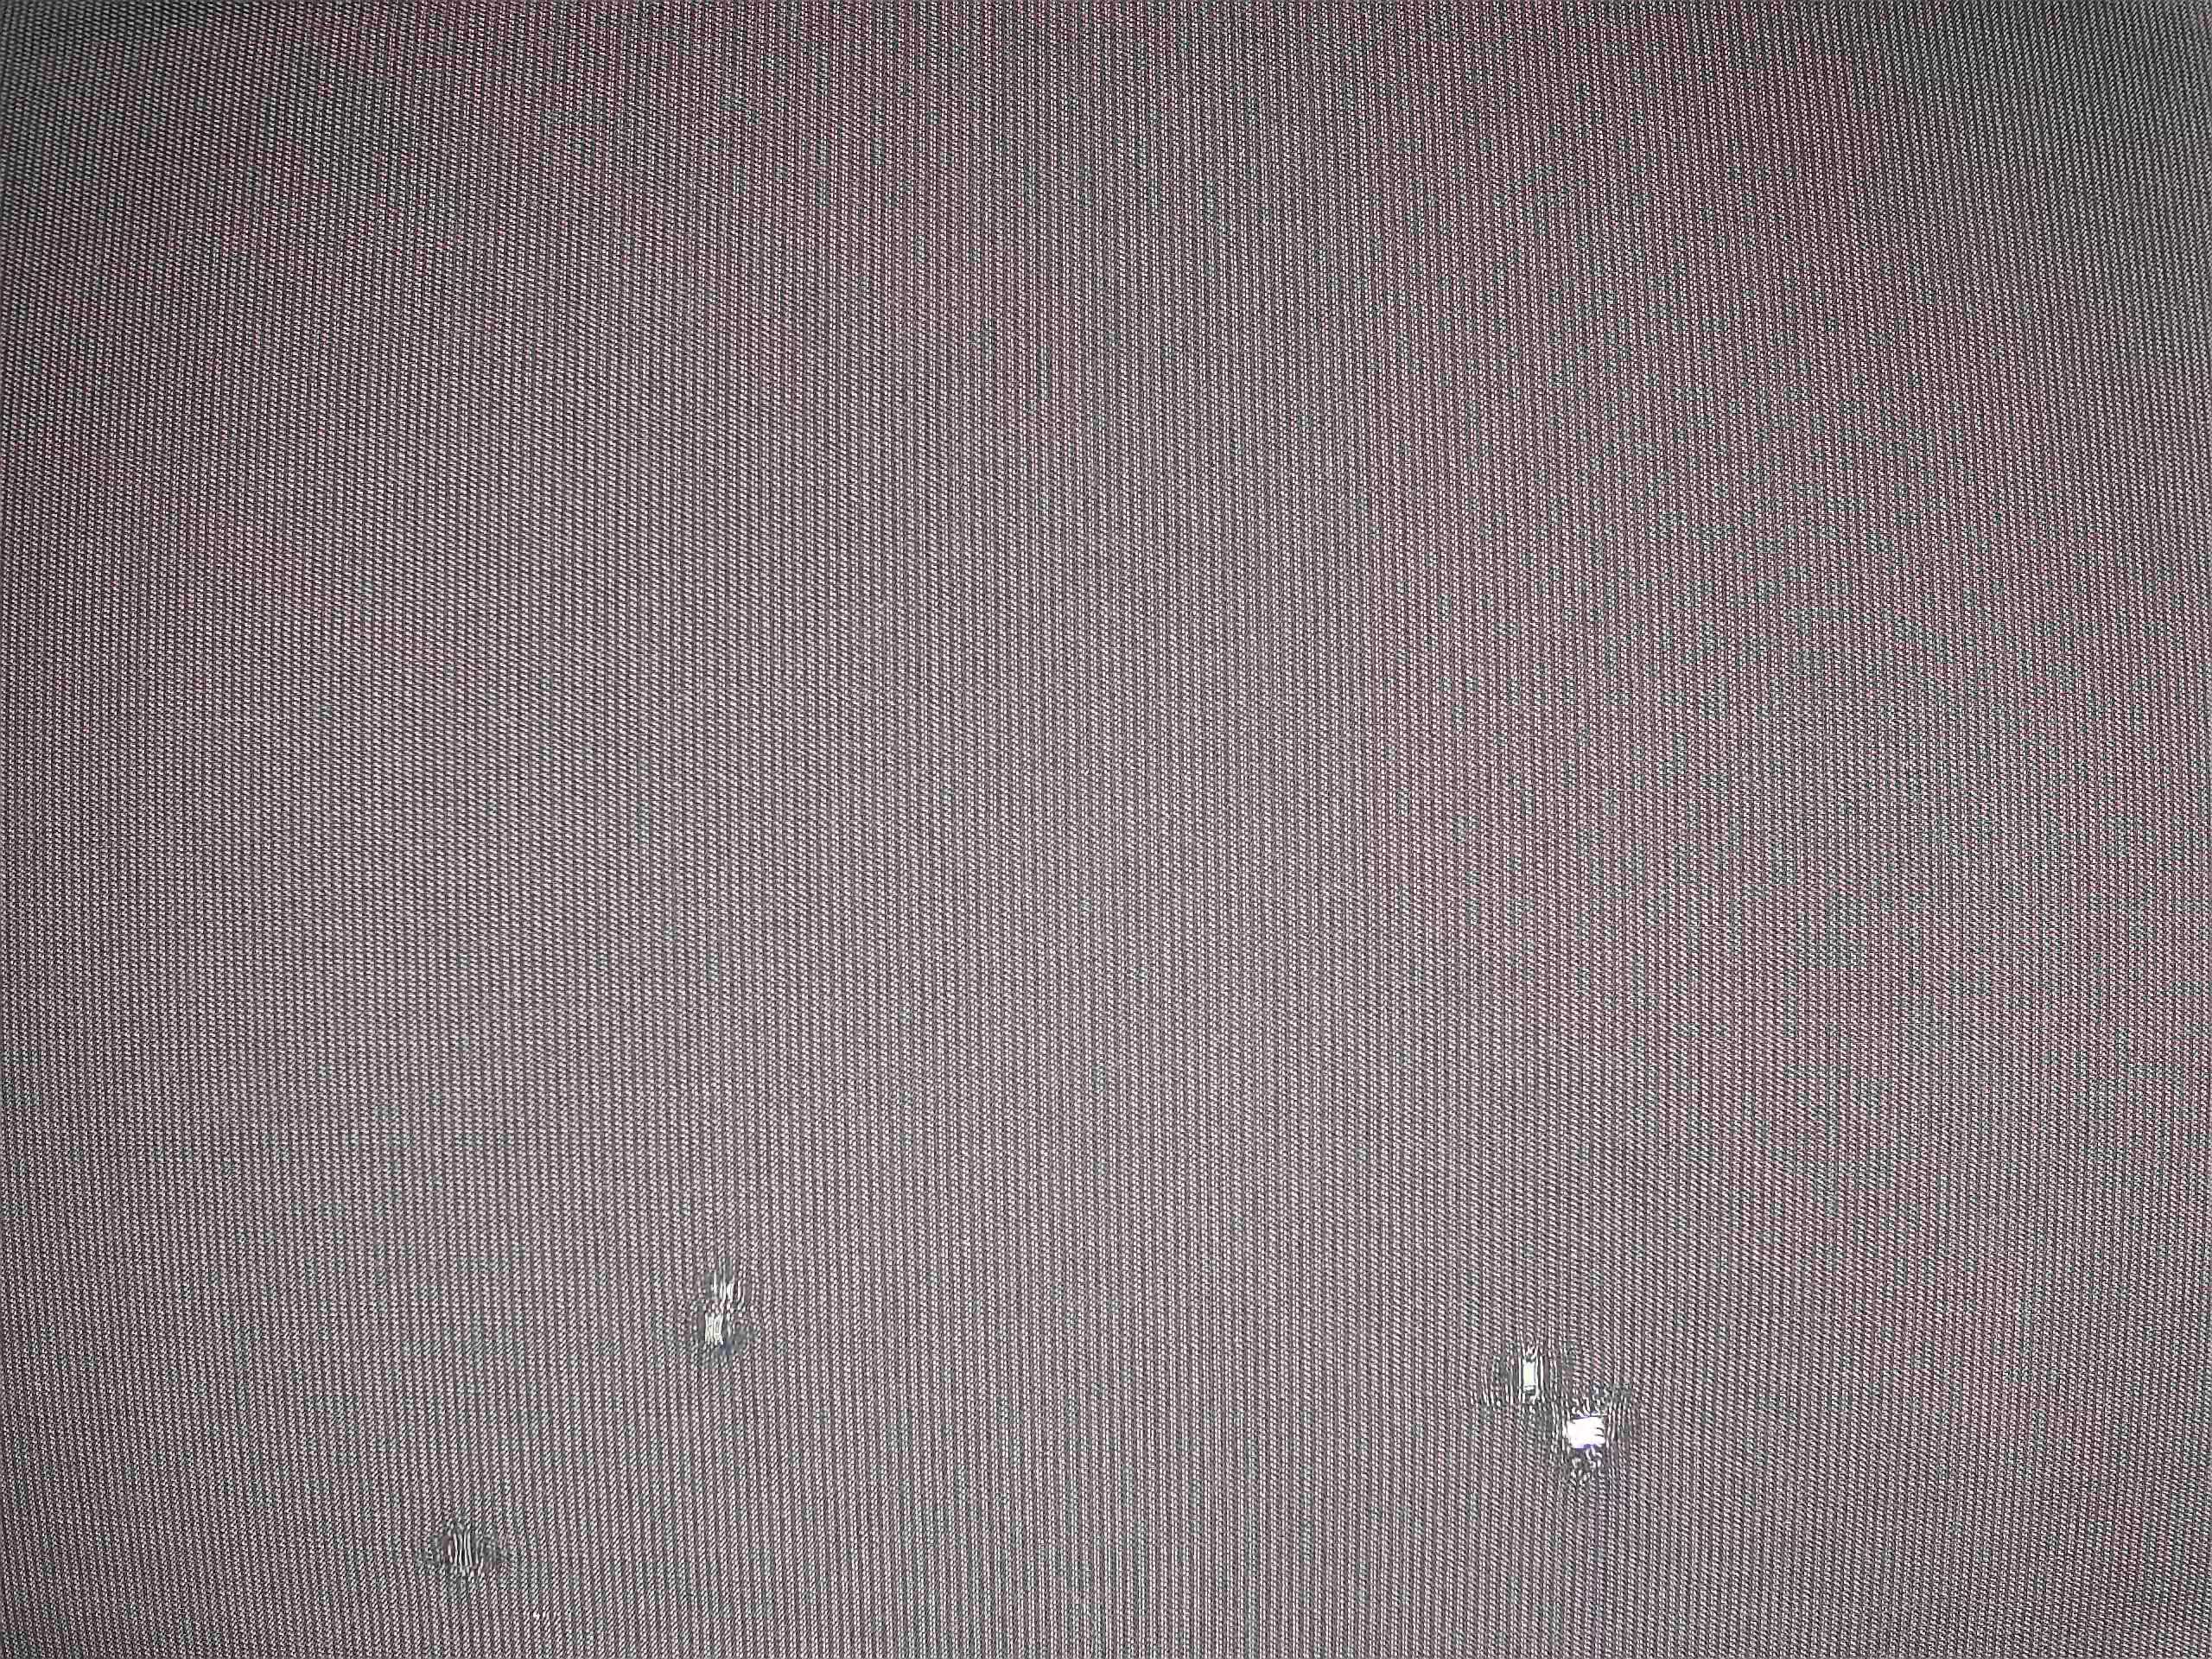rubbing-hole: (1482, 1328, 1648, 1486), (674, 1258, 768, 1361), (420, 1504, 509, 1600)
